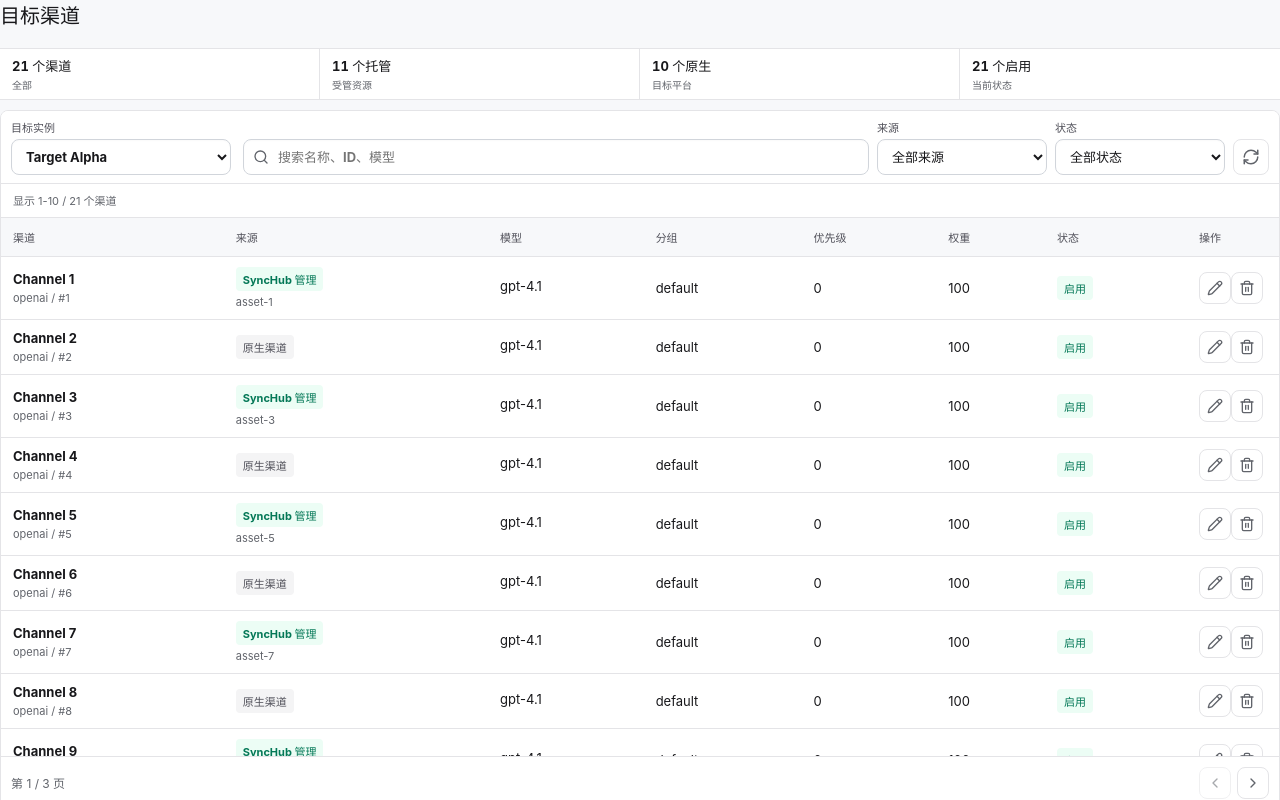
Test: ChannelsPage native channel mutation guard › marks native edits as dangerous and requires a fresh explicit confirmation
The width and height of the screenshot is (1280, 800).
Click the button named "危险编辑原生渠道 Channel 2": (1215, 346) [1199,330,1231,362]
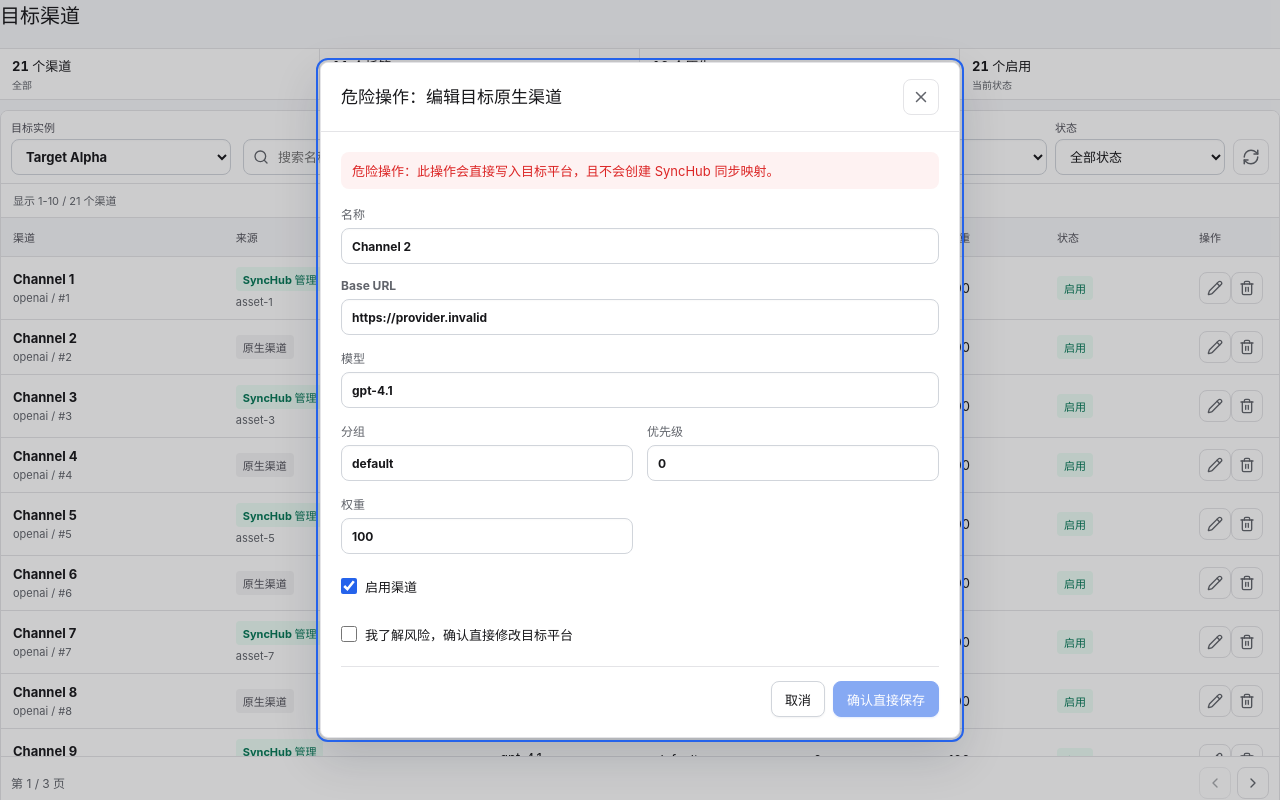
Result: the message shows "此操作会直接写入目标平台，且不会创建 SyncHub 同步映射。" at [417,163,779,179]
Result: the checkbox labelled "我了解风险，确认直接修改目标平台" is not checked
Result: the button "确认直接保存" is disabled at [833,681,939,717]
Click the checkbox labelled "我了解风险，确认直接修改目标平台": (349, 634) [341,626,357,642]
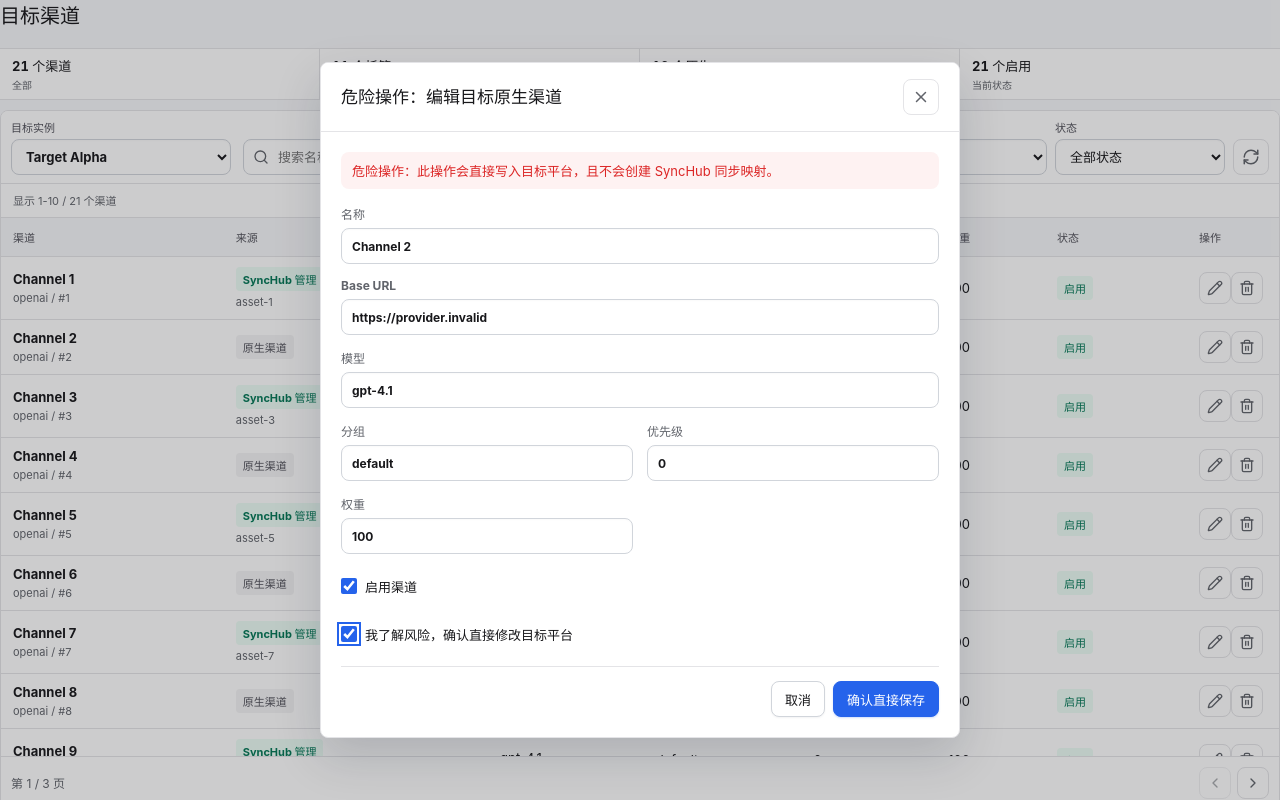
Result: the button "确认直接保存" is enabled at [833,681,939,717]
Click the button "取消": (798, 699) [771,681,825,717]
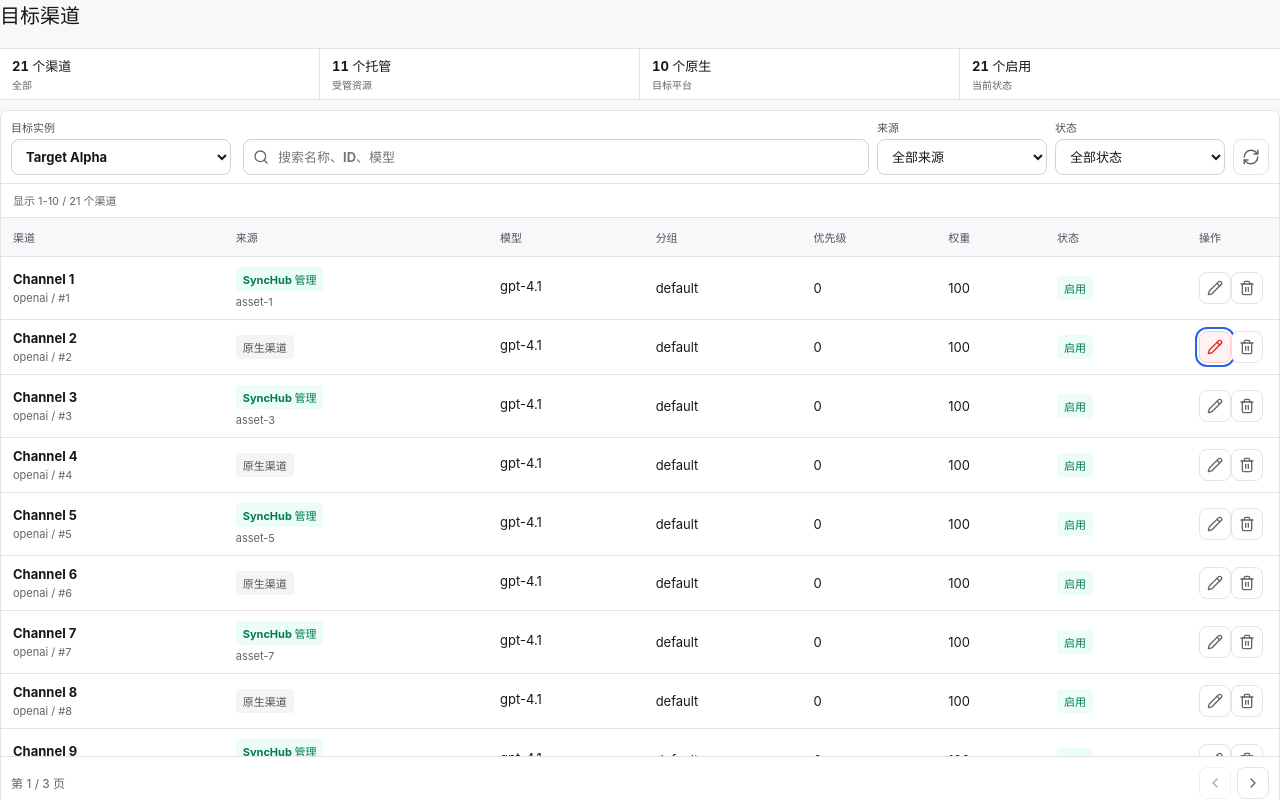
Click the button named "危险编辑原生渠道 Channel 2": (1215, 346) [1199,330,1231,362]
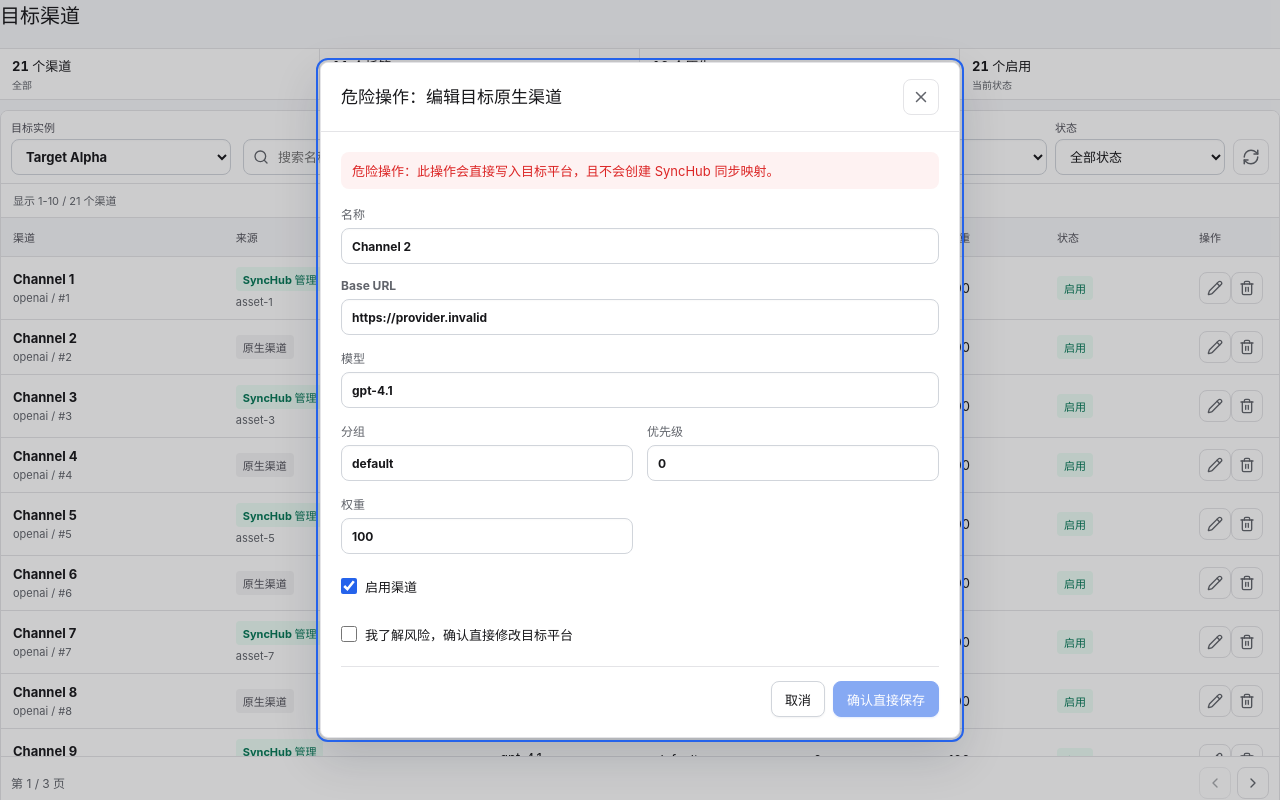
Result: the checkbox labelled "我了解风险，确认直接修改目标平台" is not checked at [341,626,357,642]
Result: the button "确认直接保存" is disabled at [833,681,939,717]
